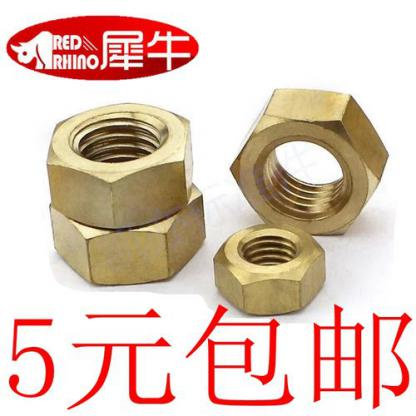FOD: (229, 85, 390, 237), (44, 98, 199, 232), (47, 178, 205, 290), (208, 221, 329, 319)
